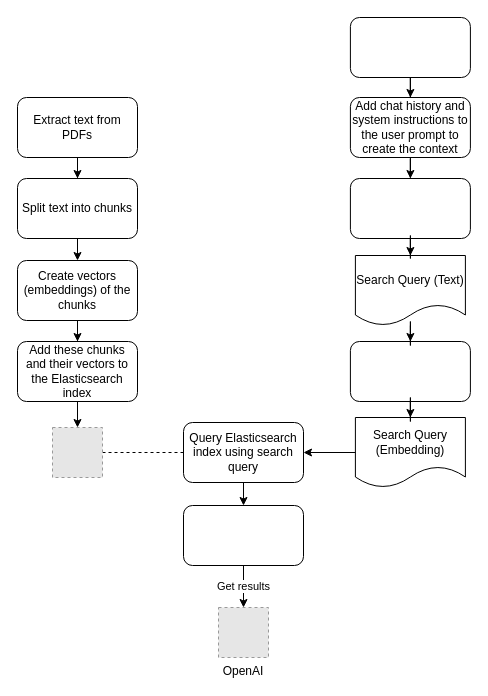
Image size: 488x696. Some labels were removed from this diagram. Grey dashed boxes stand in for pictures. Here are the shapes that lost their labels. From the top down, the box of each, then its label:
(349, 16, 470, 78): Get prompt from user
(349, 178, 470, 238): Get search query from OpenAI using the context
(349, 340, 470, 402): Create embeddings for the search query
(182, 504, 304, 566): Add search results to the context of the prompt
